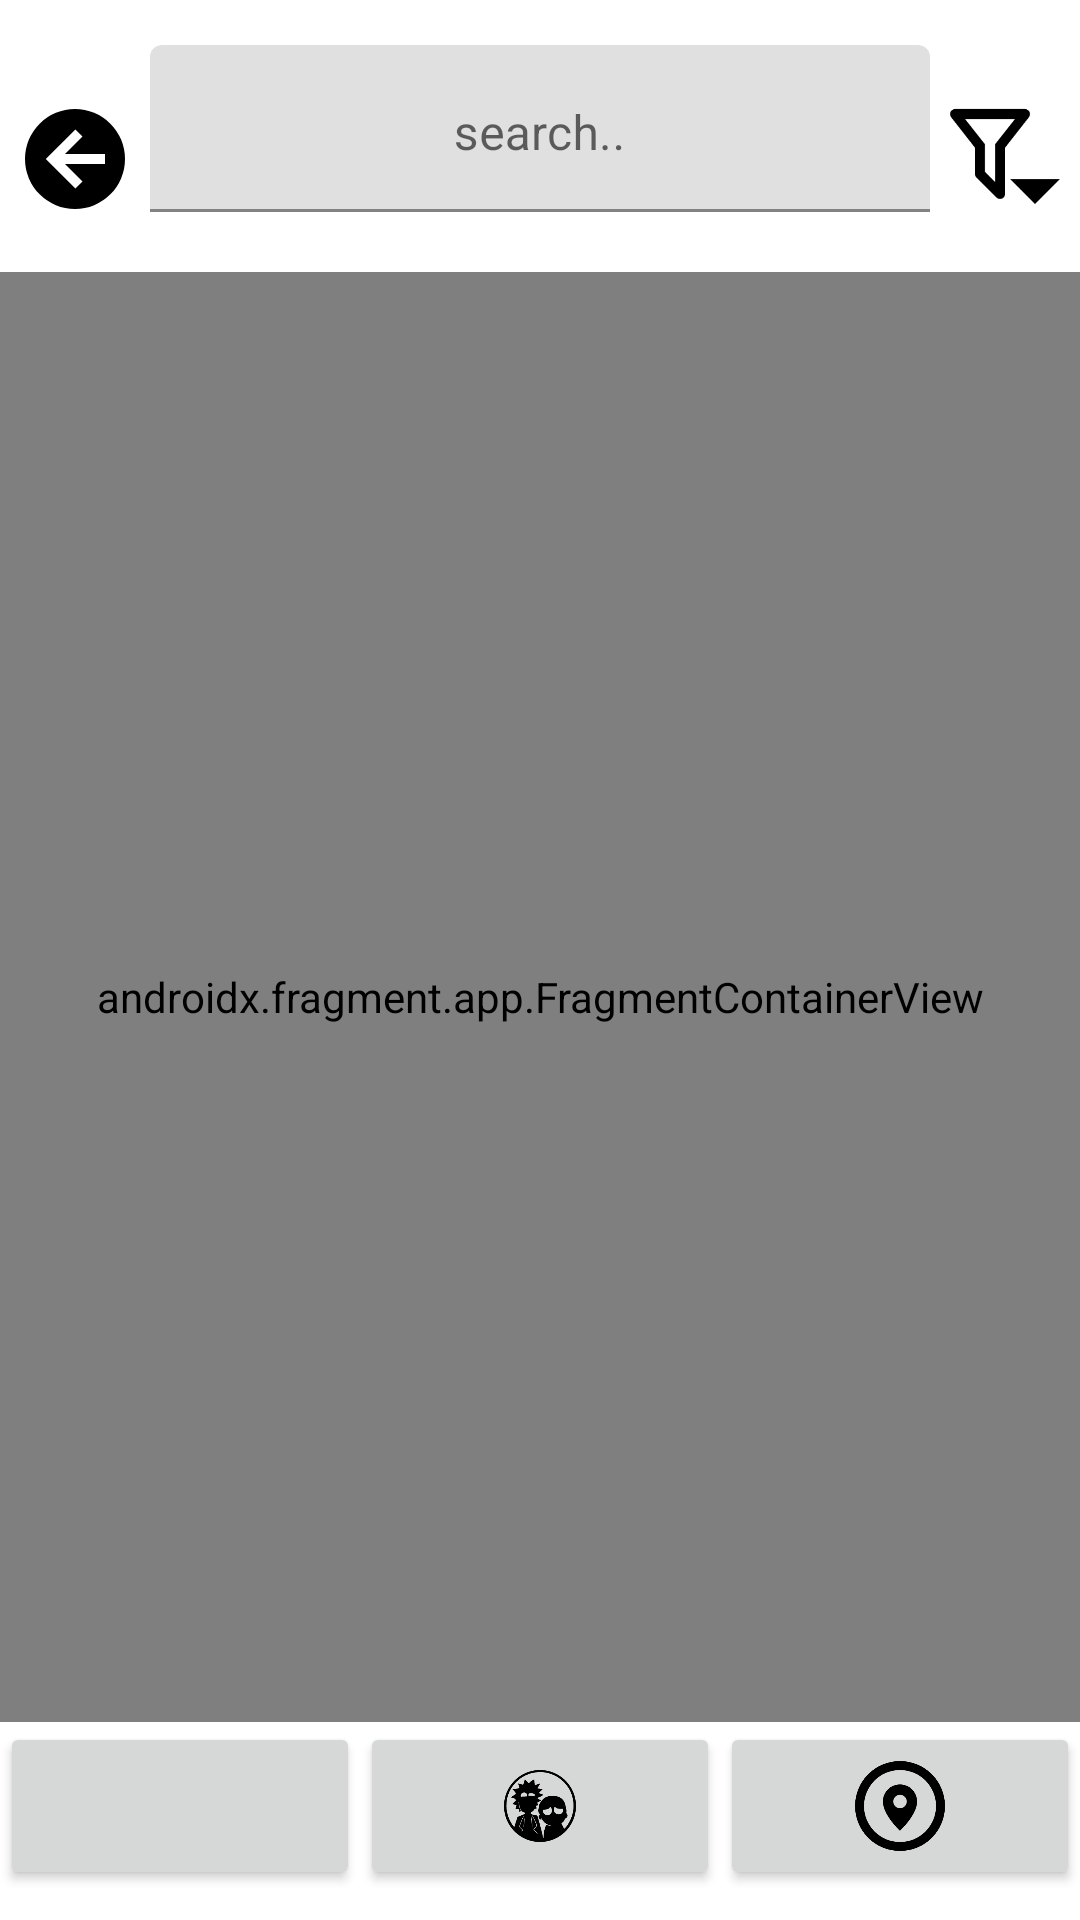

Icons on this 1080px x 1920px Android screen, each with its box as rect(x1, y1, x2, y2):
arrow left circle: rect(25, 109, 125, 209)
filter menu: rect(950, 109, 1060, 204)
